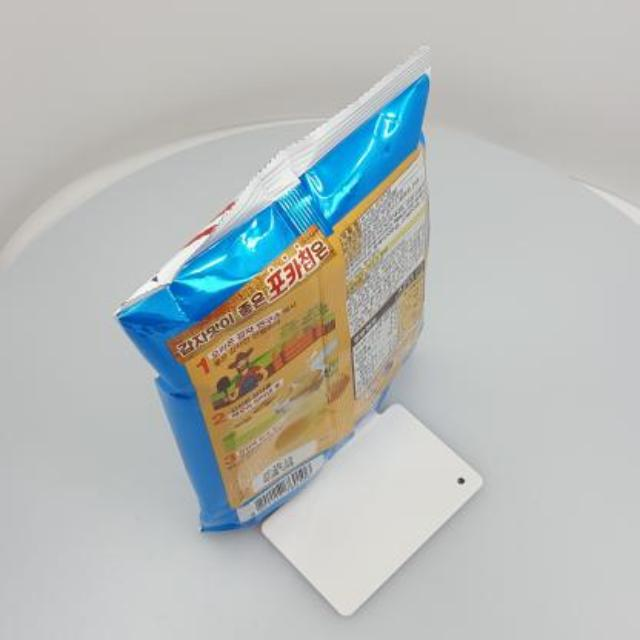snack_bag: (101, 34, 505, 546)
